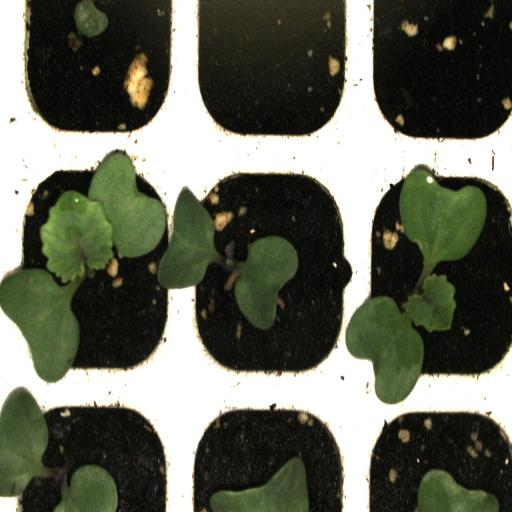Folha: (234, 236, 298, 330), (210, 457, 309, 512), (0, 390, 49, 498), (417, 469, 499, 512), (54, 464, 118, 512)
Germinacao: (4, 155, 183, 388), (184, 155, 355, 391), (355, 154, 512, 390), (1, 0, 183, 153)
